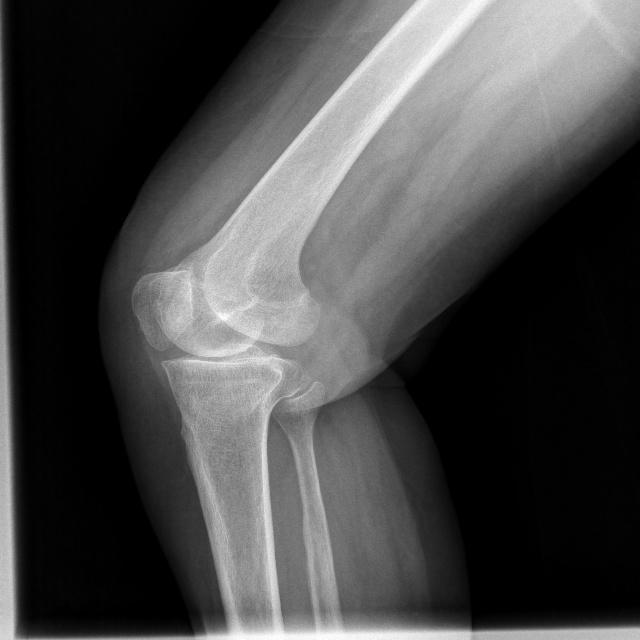Knee: (127, 265, 322, 431)
